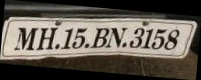character: (13, 26, 39, 51), (104, 25, 129, 48), (36, 26, 58, 50), (89, 27, 109, 49), (163, 28, 180, 51), (150, 27, 167, 49), (129, 26, 145, 49), (71, 27, 87, 49), (60, 27, 75, 49), (141, 28, 154, 49)
